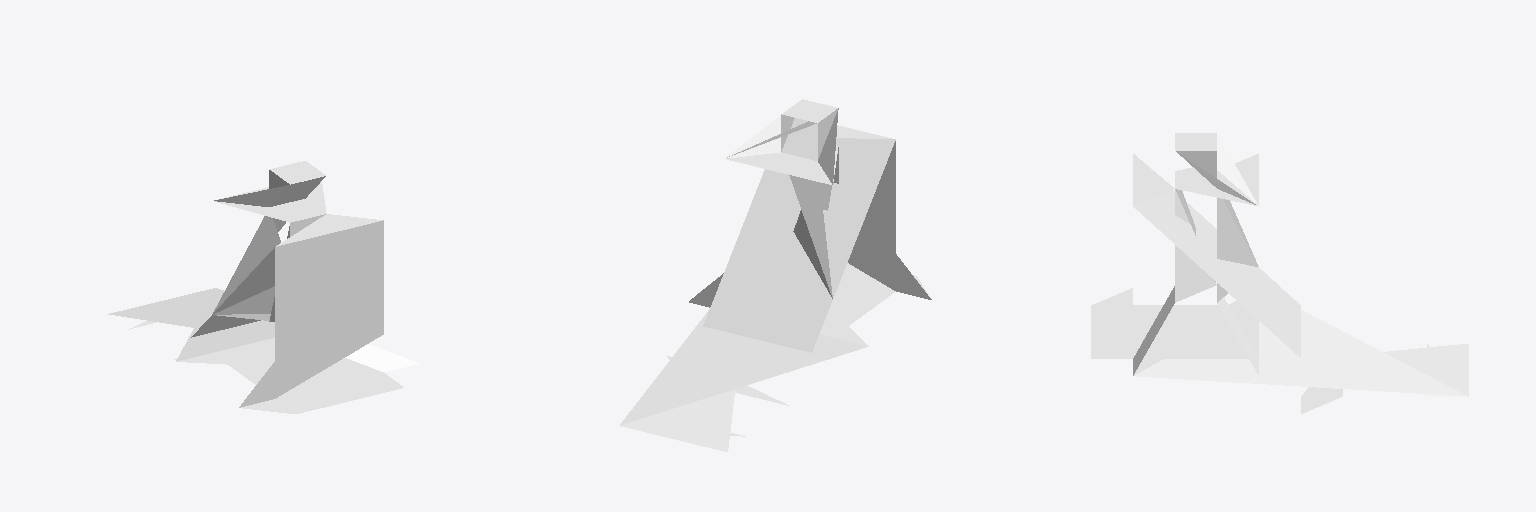
File: Star1.obj
The picture shows the model from 3 angles: view 1: azimuth 30°, elevation 25°; view 2: azimuth 150°, elevation 25°; view 3: azimuth 270°, elevation 25°; orthographic projection.
Bounding box in the file's own units: 5 × 6 × 9.